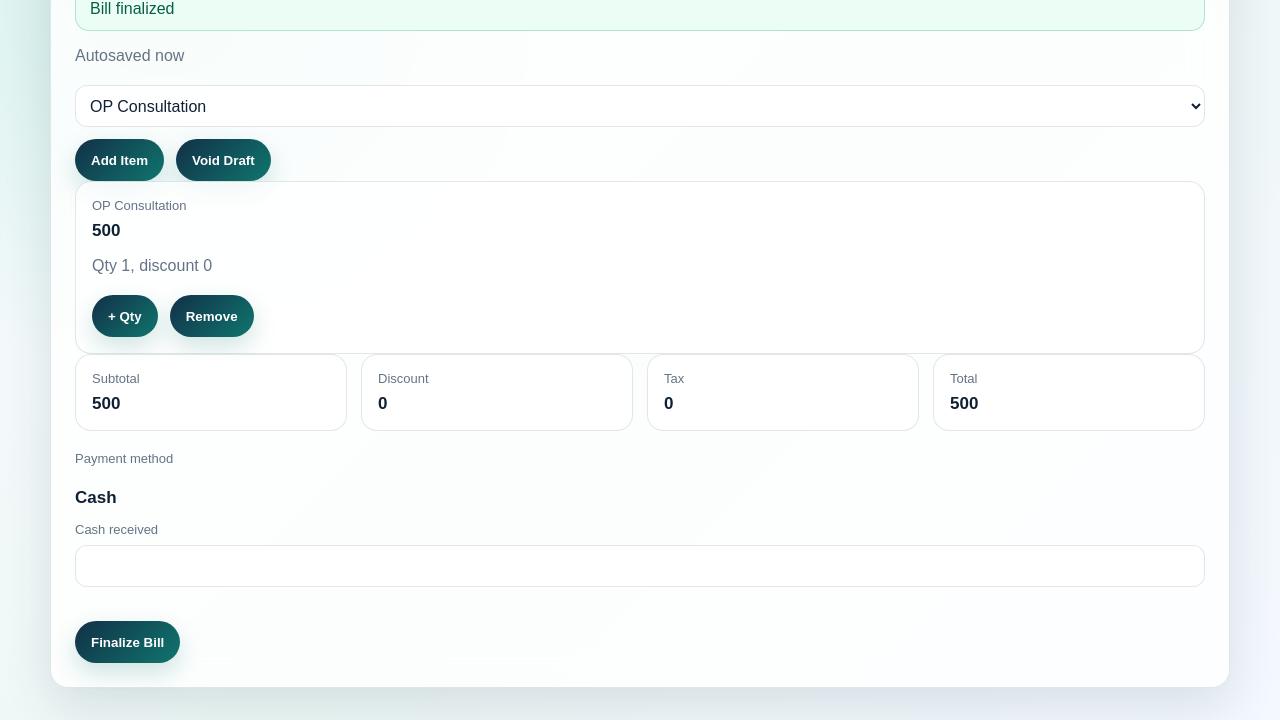
Test: Phase 5 screens › finalize insufficient cash error renders
(page scrolled)
What coordinates should you click on to do the following:
click the button "Finalize Bill"
I would click on:
 (128, 642)
Its box is top-left (75, 621), bottom-right (180, 663).
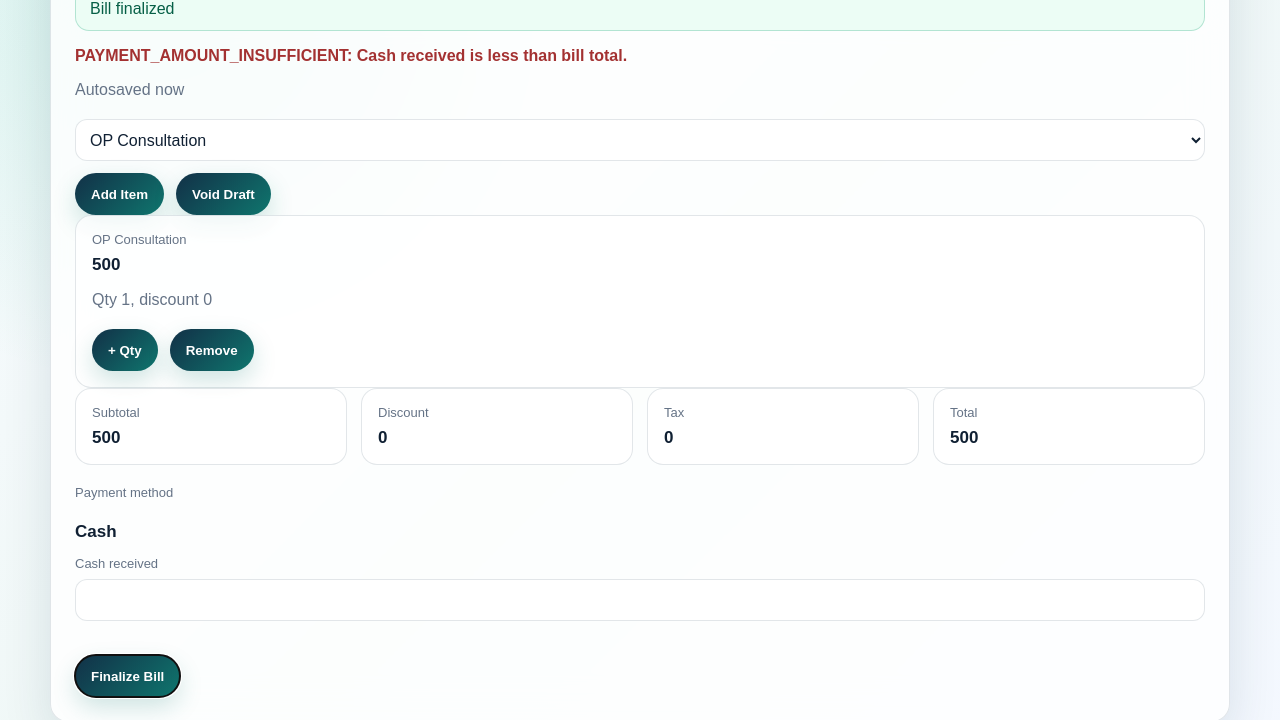
Now the text "PAYMENT_AMOUNT_INSUFFICIENT" is shown, box top-left (75, 47), bottom-right (627, 64)
